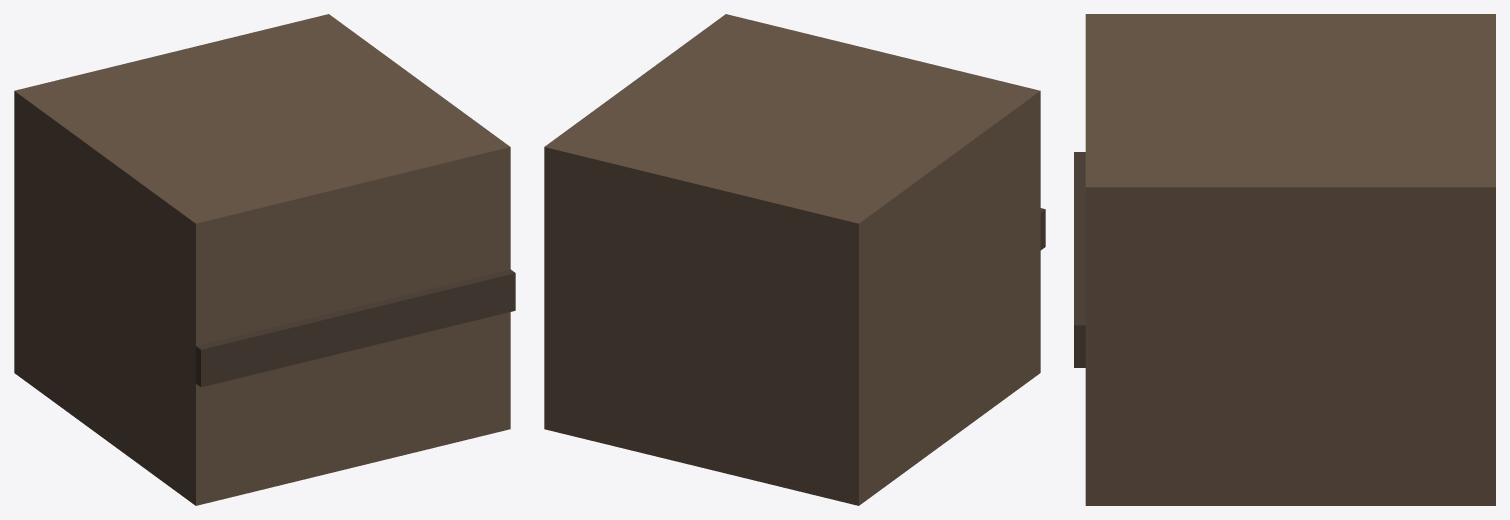
File: interior_crate.glb
3 renders of one model, left to right at view 1: azimuth 30°, elevation 25°; view 2: azimuth 150°, elevation 25°; view 3: azimuth 270°, elevation 25°, orthographic. The views are drawn at different scales.
Parts seen in each view (by area): view 1: interior_crate; view 2: interior_crate; view 3: interior_crate.
Boxes of the visible parts, bbox=[...] form: interior_crate: bbox=[14, 14, 515, 505]; interior_crate: bbox=[544, 14, 1045, 505]; interior_crate: bbox=[1074, 14, 1495, 505].
Size of the model in its own units: 0.7 by 0.6 by 0.72.
